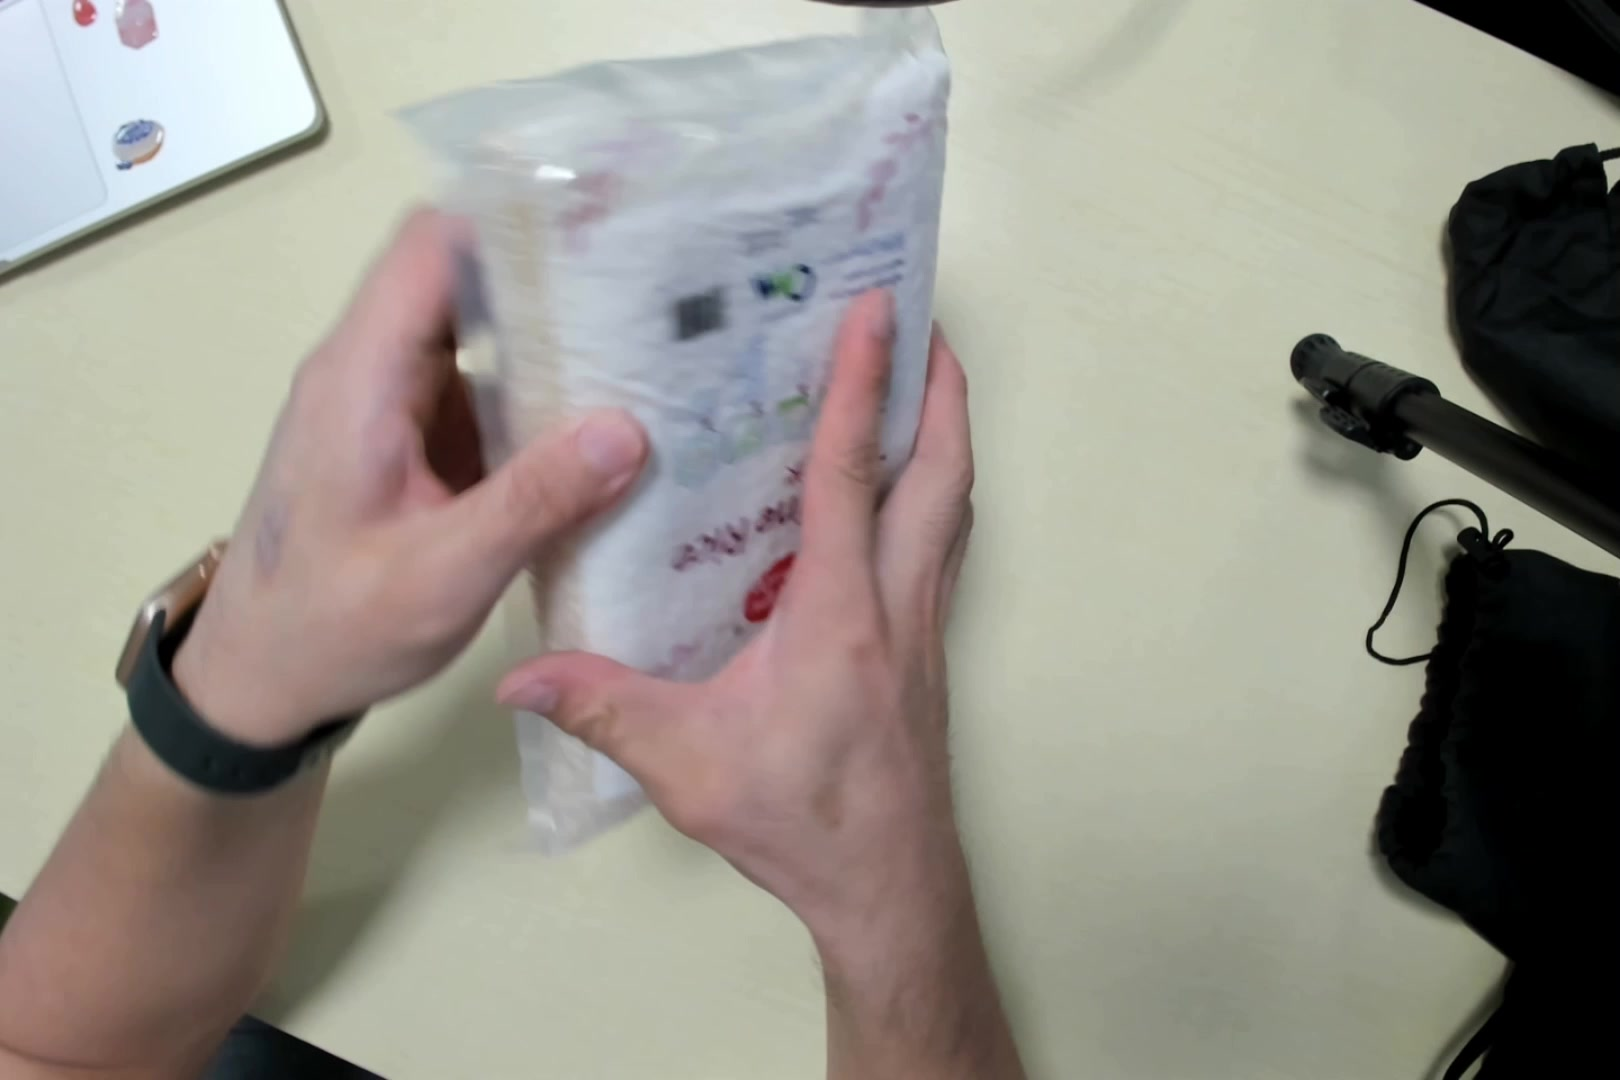Rice(White)_1000-1999g_NonHalal_NonHealthy: (460, 65, 934, 830)
